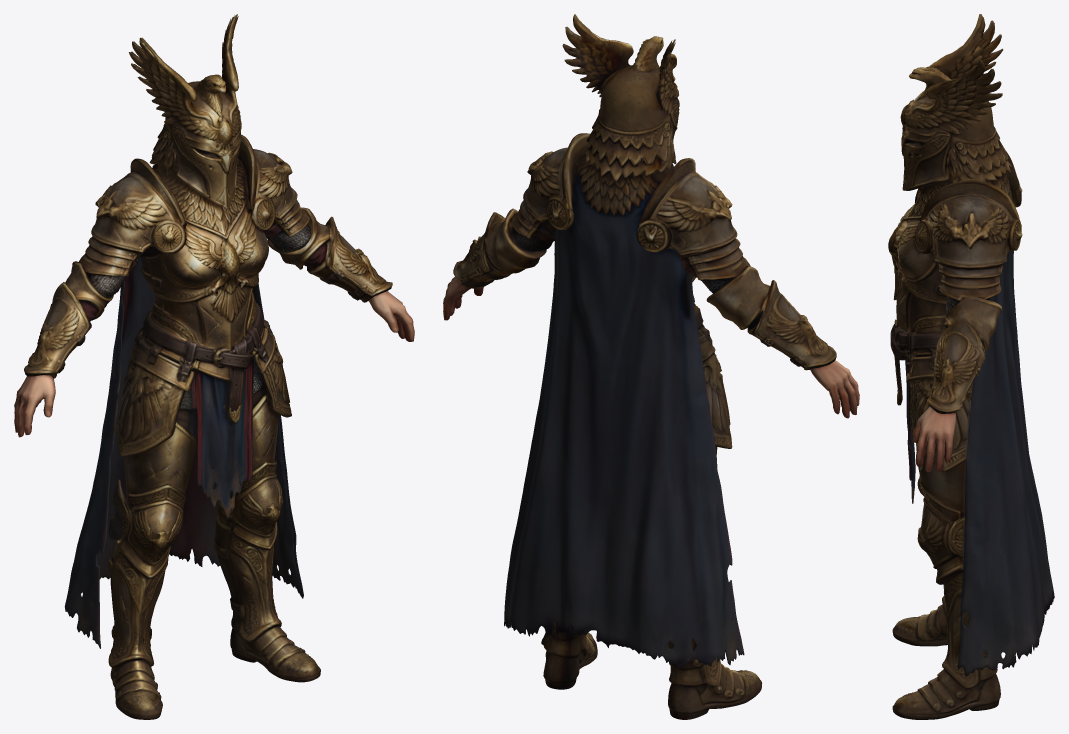
The model's file is ornate_knight_tripo.glb.
The picture shows the model from 3 angles, left to right: view 1: azimuth 30°, elevation 25°; view 2: azimuth 150°, elevation 25°; view 3: azimuth 270°, elevation 25°; orthographic projection. The views are drawn at different scales.
Visible parts, largest first — view 1: tripo_node_d980c74b-af9f-4f18-b807-ad579a0686c7; view 2: tripo_node_d980c74b-af9f-4f18-b807-ad579a0686c7; view 3: tripo_node_d980c74b-af9f-4f18-b807-ad579a0686c7.
Boxes of the visible parts, <box> form: tripo_node_d980c74b-af9f-4f18-b807-ad579a0686c7: <box>14,14,414,719</box>; tripo_node_d980c74b-af9f-4f18-b807-ad579a0686c7: <box>443,14,859,719</box>; tripo_node_d980c74b-af9f-4f18-b807-ad579a0686c7: <box>888,14,1054,719</box>.
Size of the model in its own units: 0.625 by 0.9788 by 0.2309.
1 material, 1 textured.
